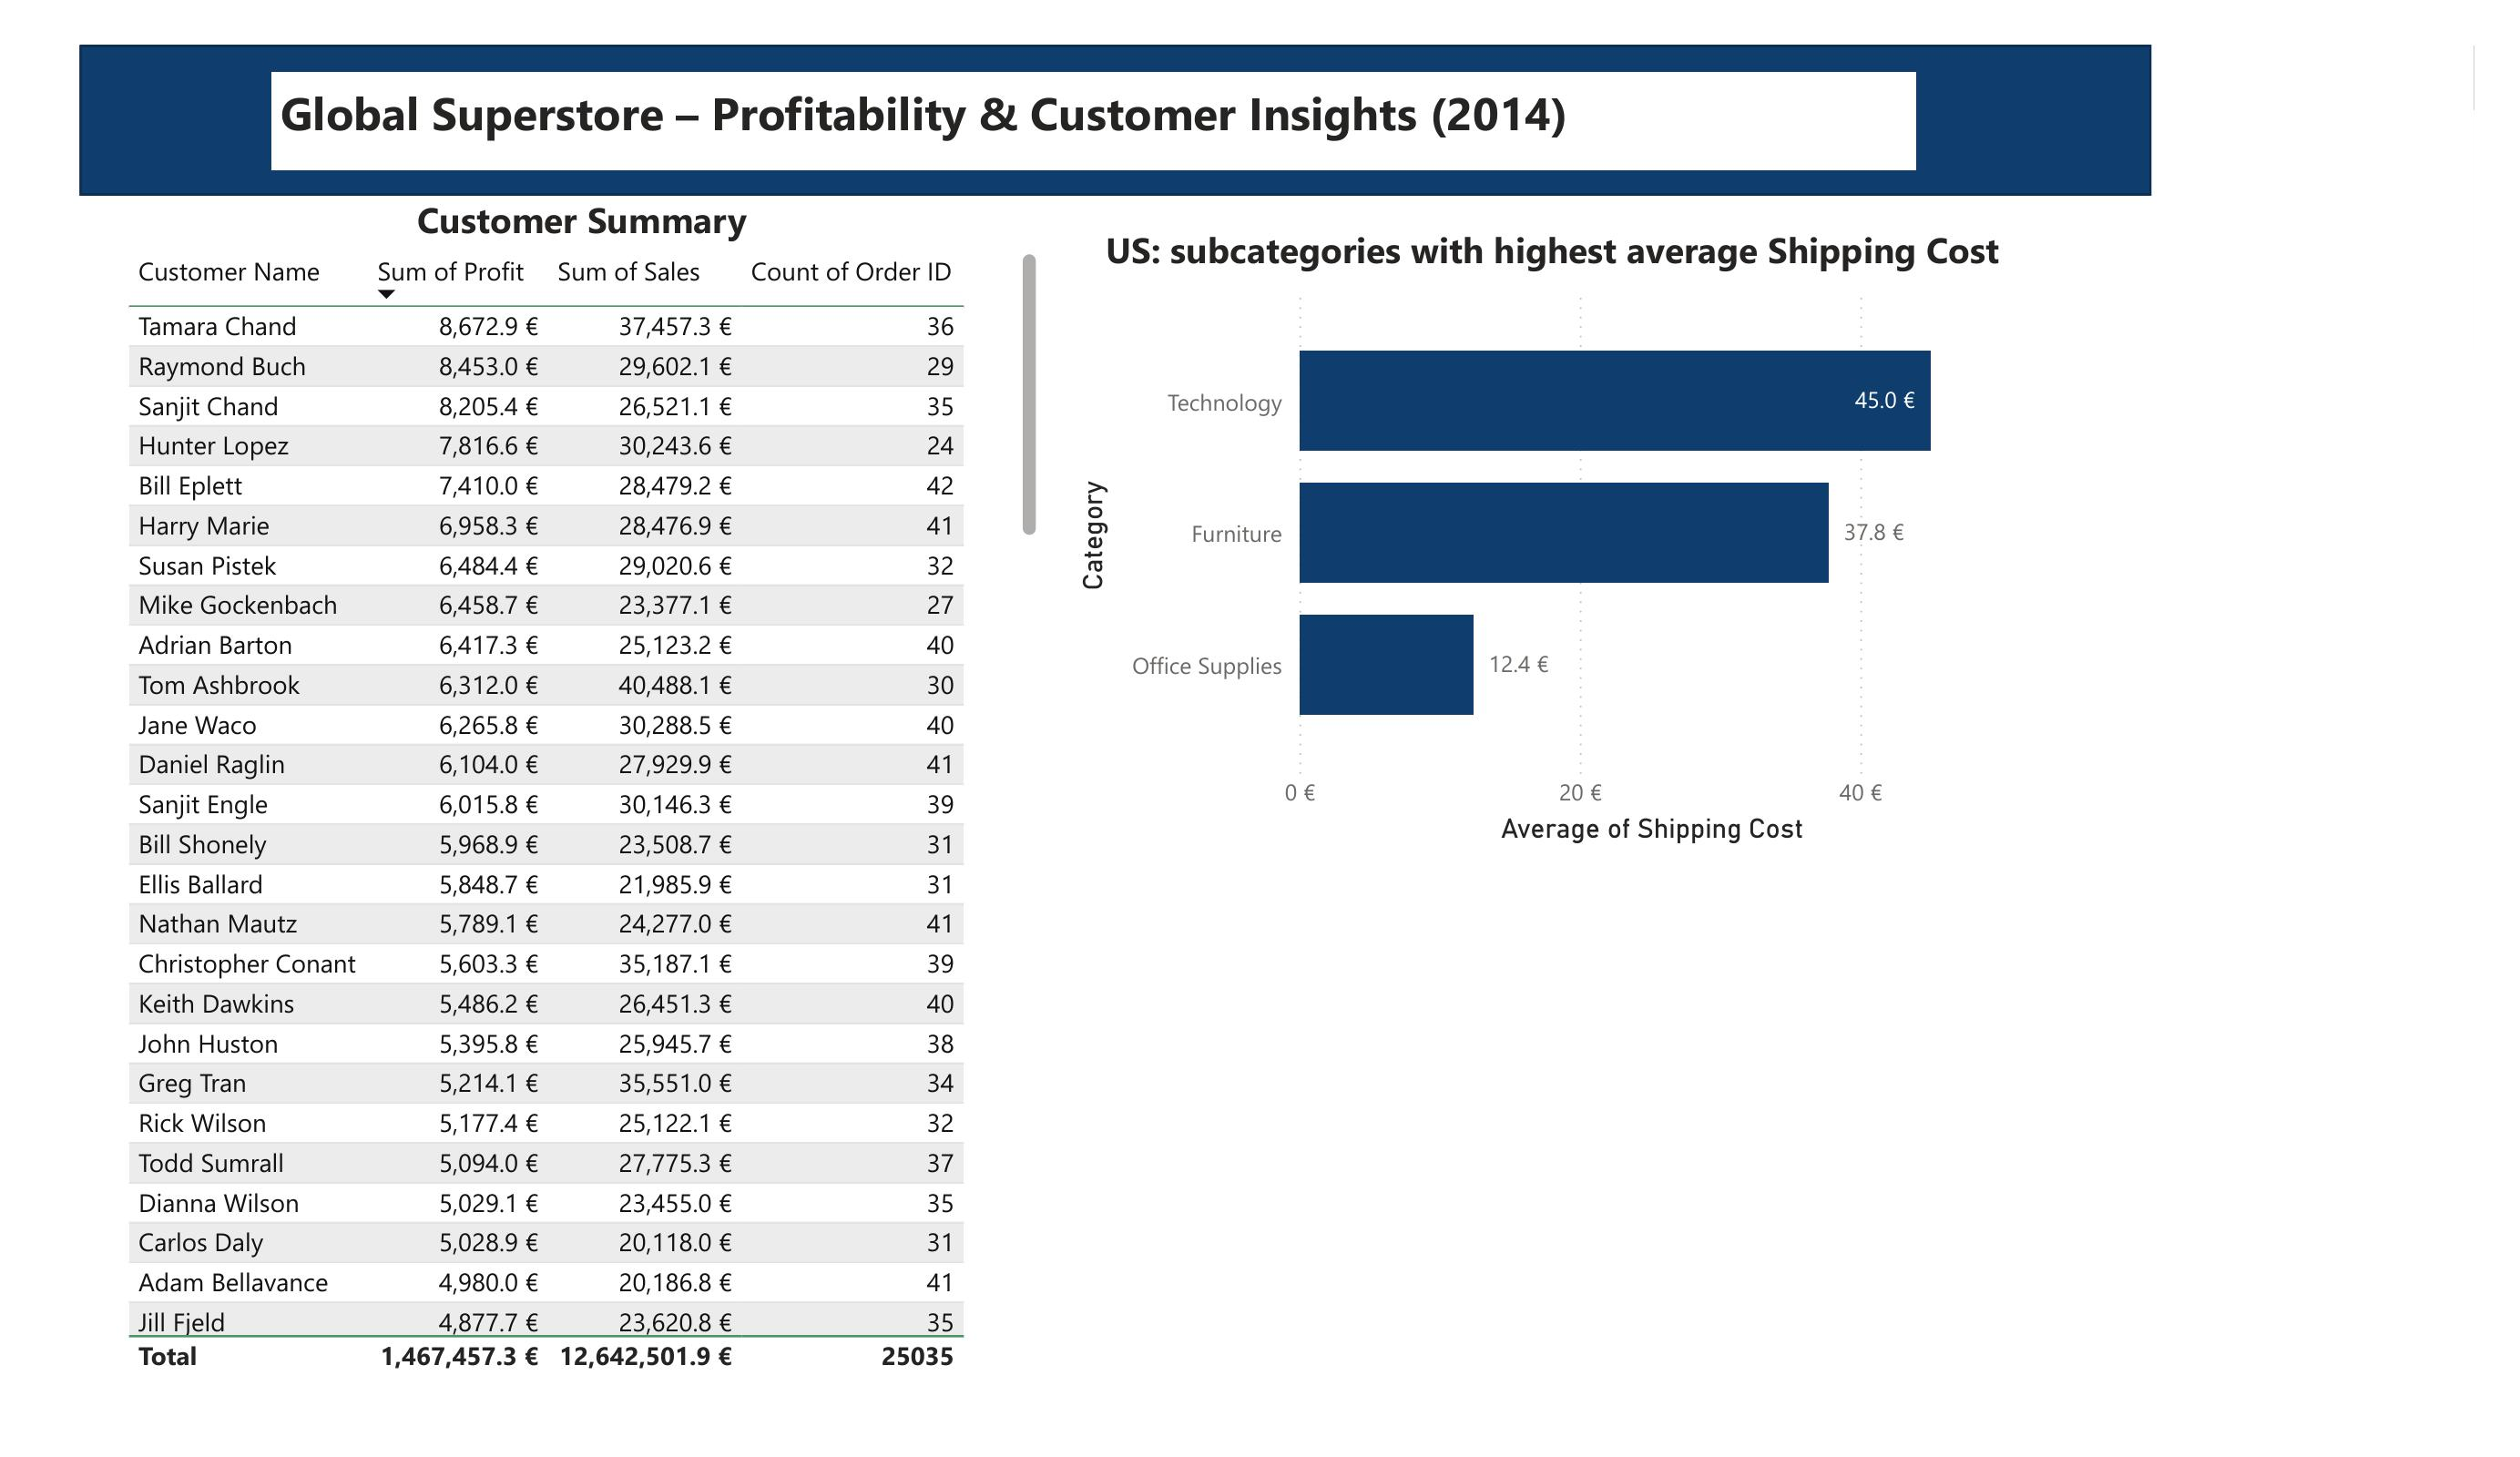

The dashboard page shown, as its layout file describes it:
{"tool":"powerbi","page":{"name":"Page 2","canvas":[1280,720],"ordinal":4},"visuals":[{"type":"tableEx","title":"Customer Summary","fields":{"Values":["Orders.Customer Name","Orders.Profit","Orders.Sales","Orders.Order ID"]},"box":[37.5,78.8,490,627.5],"z":0},{"type":"clusteredBarChart","title":"US: subcategories with highest average Shipping Cost","fields":{"Category":["Orders.Category"],"Y":["Orders.Shipping Cost"]},"box":[538.8,95,511.2,331.2],"z":1000},{"type":"shape","box":[17.5,0,1092.5,78.8],"z":2000},{"type":"textbox","box":[1064,79,216,331],"z":3000},{"type":"textbox","box":[118.8,13.8,867.5,52.5],"z":4000},{"type":"textbox","box":[1064,410,216,297],"z":5000}]}

Visuals, with their boxes on the page's 1280x720 design canvas (x1, y1, x2, y2). These are canvas units, not pixel positions in the 2520x1457 screenshot, which may show the page scaled, cropped or inside an application window:
"Customer Summary" tableEx: (38, 79, 528, 706)
"US: subcategories with highest average Shipping Cost" clusteredBarChart: (539, 95, 1050, 426)
shape: (18, 0, 1110, 79)
textbox: (1064, 79, 1280, 410)
textbox: (119, 14, 986, 66)
textbox: (1064, 410, 1280, 707)
